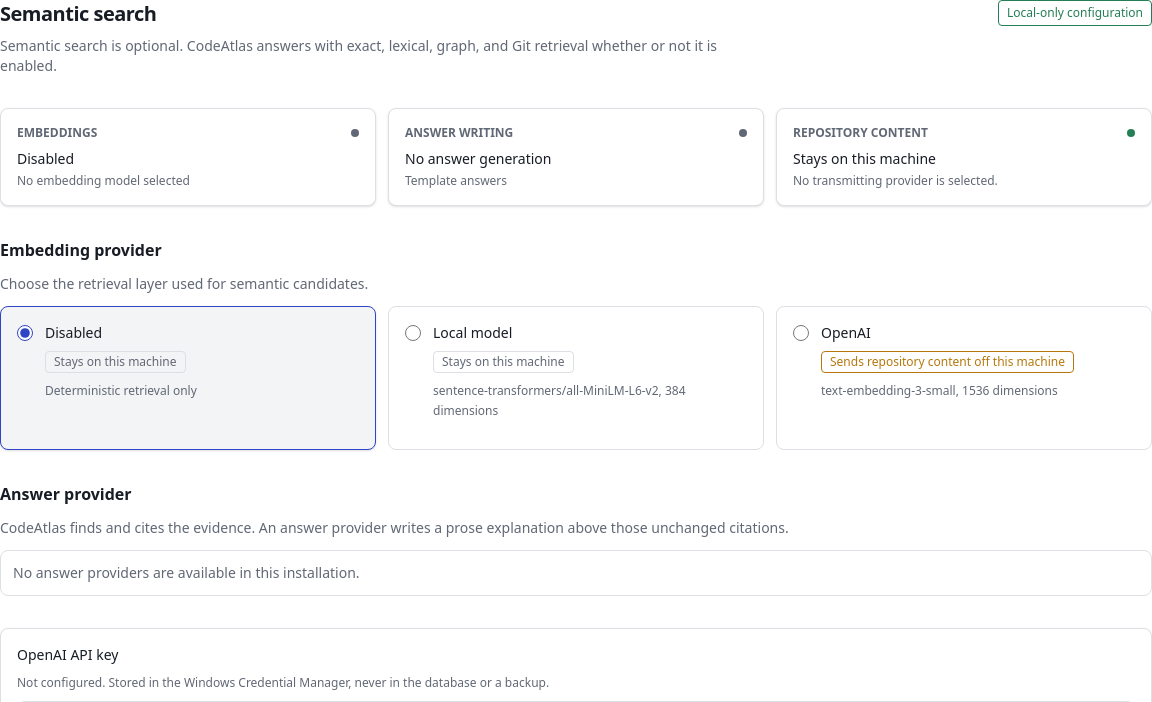
it: SemanticSettings › reveals the budget field only for a transmitting provider
Expected: the field labelled "monthly token budget" is not shown
Click the radio button labelled "OpenAI" at point(801, 333), box [793,325,809,341]
(page scrolled)
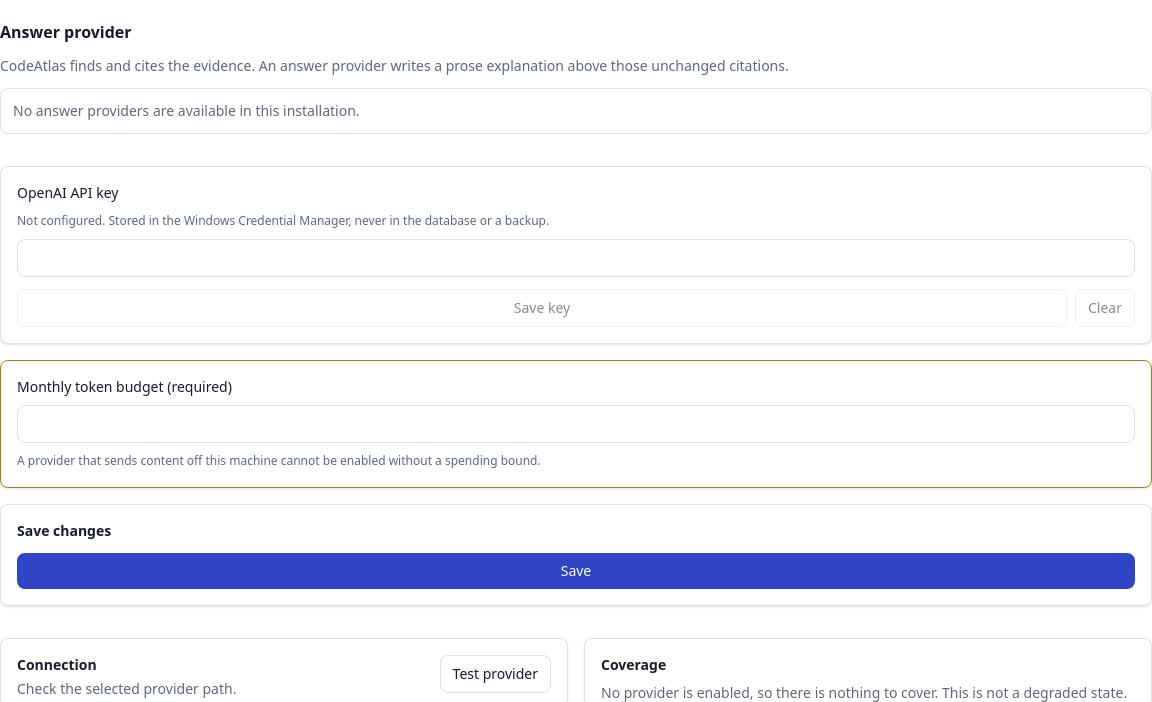
Result: the number field labelled "Monthly token budget (required)" is shown at [17,405,1135,443]
